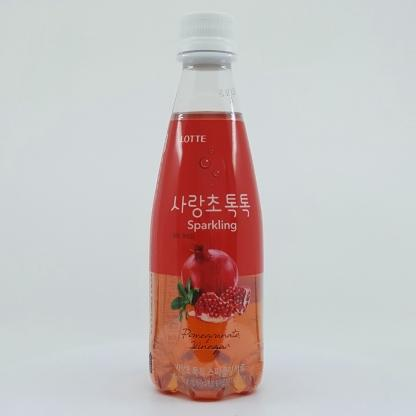-----------330ML: (149, 11, 264, 399)
